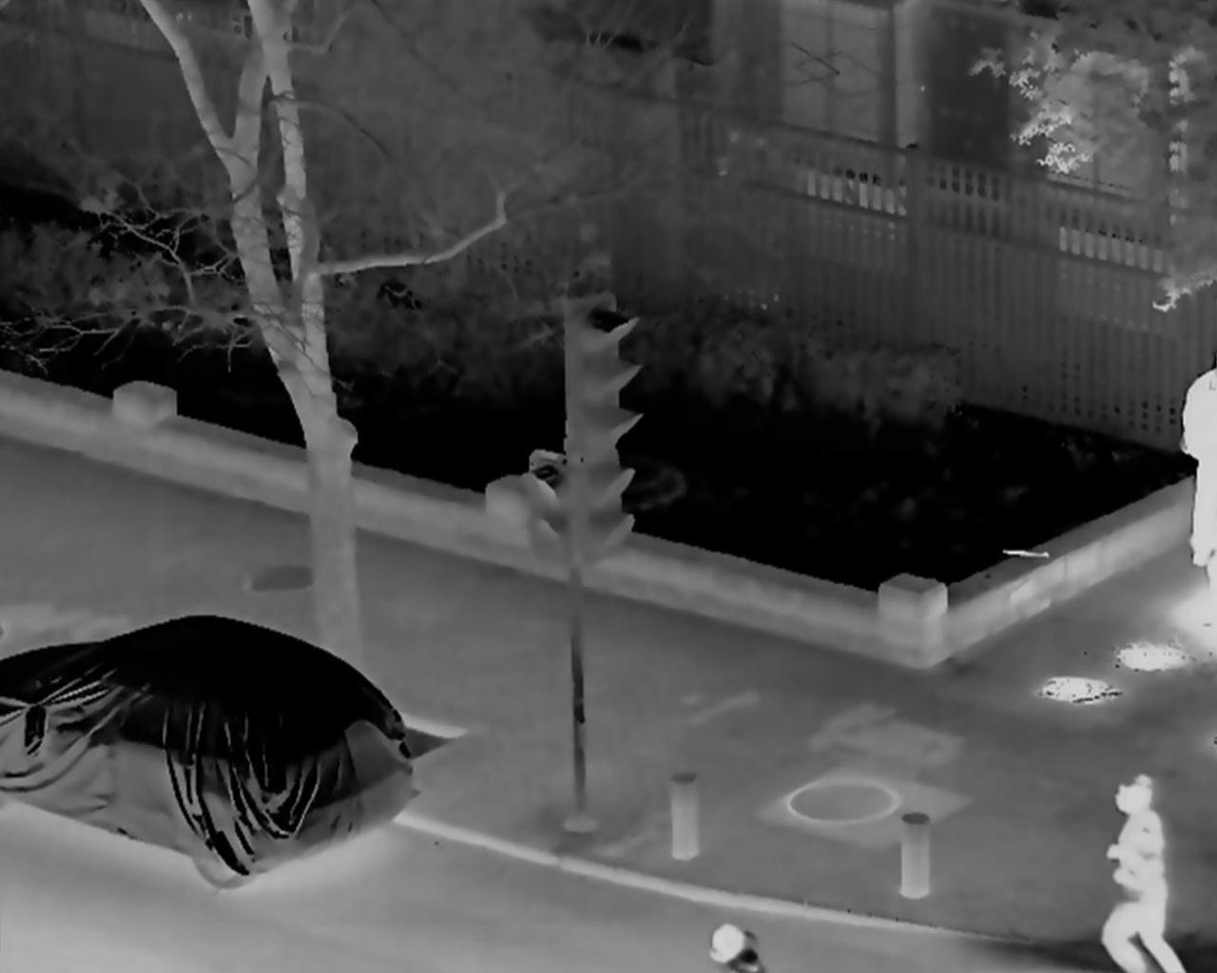person: (1085, 767, 1188, 973), (1179, 344, 1215, 582)
